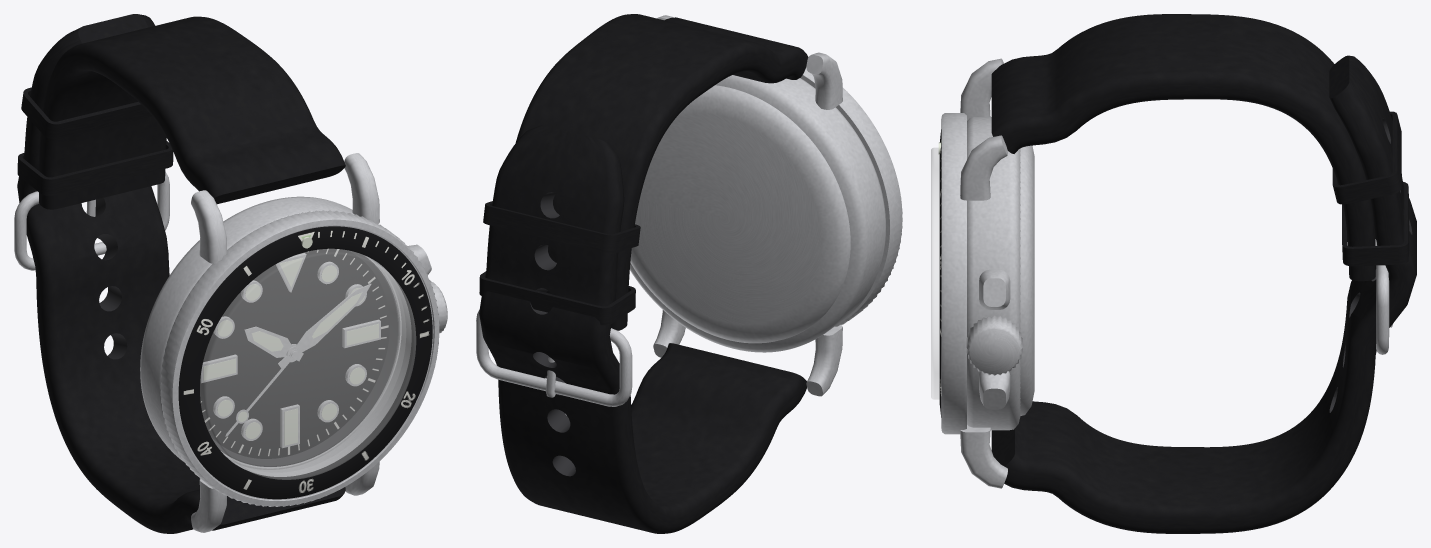
The model's file is dive-watch.glb.
3 renders of one model, left to right at view 1: azimuth 30°, elevation 25°; view 2: azimuth 150°, elevation 25°; view 3: azimuth 270°, elevation 25°, orthographic. The views are drawn at different scales.
Visible parts, largest first — view 1: Strap, hole piece, Sapphire crystal, Strap, buckle piece, Dial, Bezel insert, Bezel, Case middle, Strap keepers, Lugs, Luminous markers, Dial flange, Applied hour indices (+2 smaller); view 2: Strap, hole piece, Case back, Strap, buckle piece, Case middle, Strap keepers, Bezel, Lugs, Tang buckle; view 3: Strap, hole piece, Strap, buckle piece, Case middle, Bezel, Lugs, Case back, Strap keepers, Crown, Sapphire crystal, Crown guards, Tang buckle, Bezel insert.
Part boxes in pixels (x1,y1,x2,y2): Strap, hole piece: (17,14,345,533); Sapphire crystal: (200,249,415,479); Strap, buckle piece: (39,16,345,209); Dial: (200,248,389,458); Bezel insert: (178,226,432,499); Bezel: (160,210,439,506); Case middle: (140,196,401,469); Strap keepers: (17,87,173,196); Lugs: (191,153,379,532); Luminous markers: (203,258,378,445); Dial flange: (211,250,398,466); Applied hour indices: (200,253,380,447); Strap, hole piece: (479,125,806,533); Case back: (630,85,850,343); Strap, buckle piece: (515,14,808,330); Case middle: (630,75,885,352); Strap keepers: (479,201,640,325); Bezel: (800,67,902,326); Lugs: (653,15,842,396); Tang buckle: (476,310,632,406); Strap, hole piece: (991,55,1416,533); Strap, buckle piece: (991,14,1375,281); Case middle: (967,117,1020,430); Bezel: (941,113,966,434); Lugs: (960,58,1007,488); Case back: (1020,145,1034,415); Strap keepers: (1332,111,1409,266); Crown: (966,315,1022,375); Sapphire crystal: (931,148,939,399); Crown guards: (979,269,1010,409); Tang buckle: (1376,242,1393,354); Bezel insert: (939,129,941,417).
Bounding box in the file's own units: 0.043 × 0.0634 × 0.0605.
Materials: 8 (8 with a texture image).
